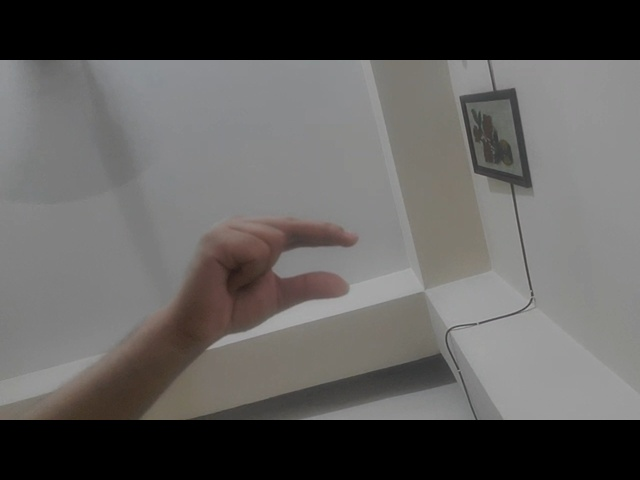No: (166, 193, 380, 355)
